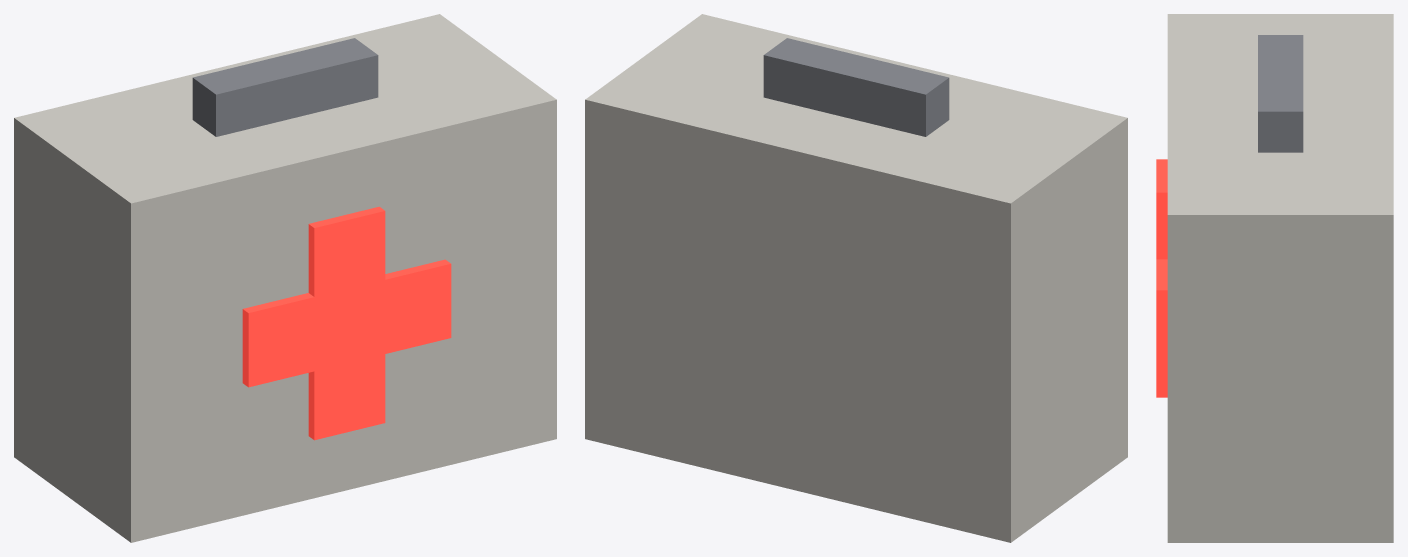
File: pk_health.glb
3 views of the same model, side by side, from view 1: azimuth 30°, elevation 25°; view 2: azimuth 150°, elevation 25°; view 3: azimuth 270°, elevation 25° (orthographic). The views are drawn at different scales.
Visible parts, largest first — view 1: pk_health; view 2: pk_health; view 3: pk_health.
Boxes of the visible parts, x1=… form: pk_health: x1=14, y1=14, x2=556, y2=542; pk_health: x1=585, y1=14, x2=1127, y2=542; pk_health: x1=1156, y1=14, x2=1393, y2=542.
Bounding box in the file's own units: 0.42 × 0.36 × 0.21.
